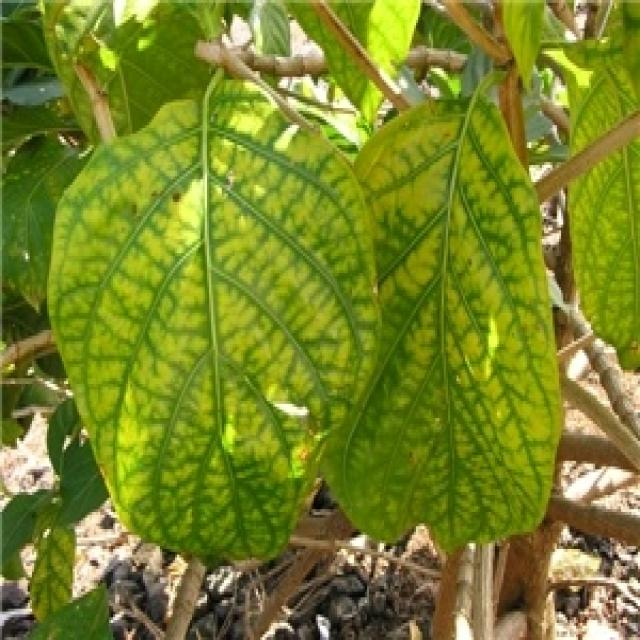Chlorosis: (61, 74, 559, 534)
